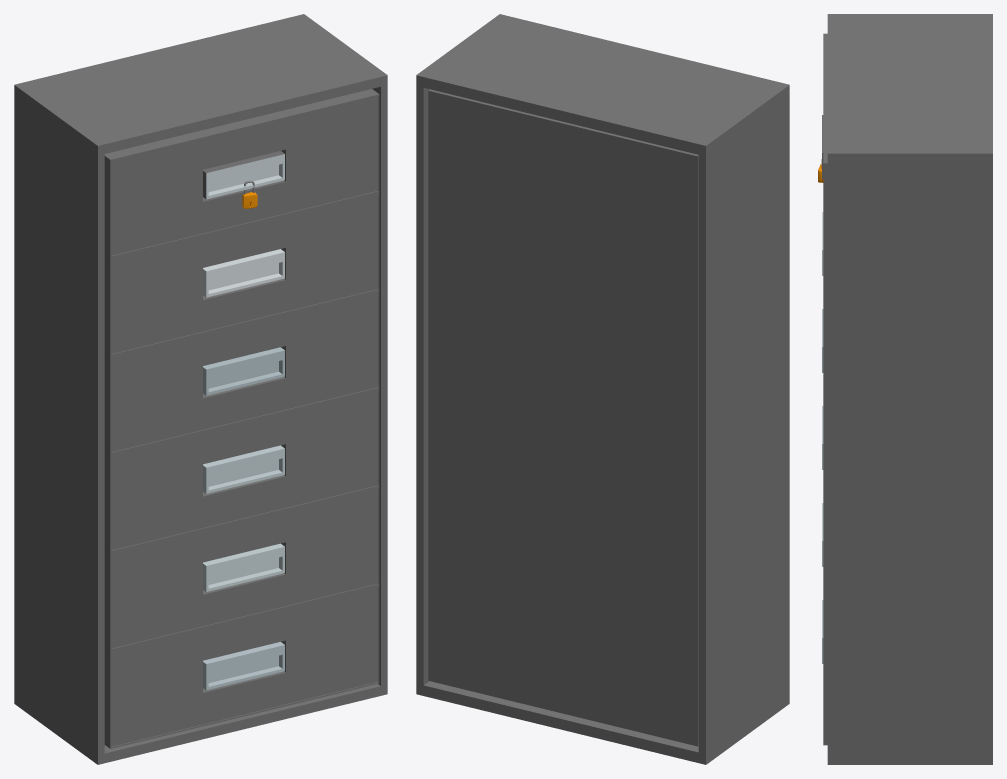
The model's file is SM_Env_LockedCabinet .fbx.
The picture shows the model from 3 angles, left to right: view 1: azimuth 30°, elevation 25°; view 2: azimuth 150°, elevation 25°; view 3: azimuth 270°, elevation 25°; orthographic projection.
Parts seen in each view (by area): view 1: Cube; view 2: Cube; view 3: Cube.
Part boxes in pixels (bbox=[...]): Cube: bbox=[14, 14, 387, 764]; Cube: bbox=[416, 14, 789, 764]; Cube: bbox=[818, 14, 992, 764].
Bounding box in the file's own units: 2 × 4.08 × 1.06.
